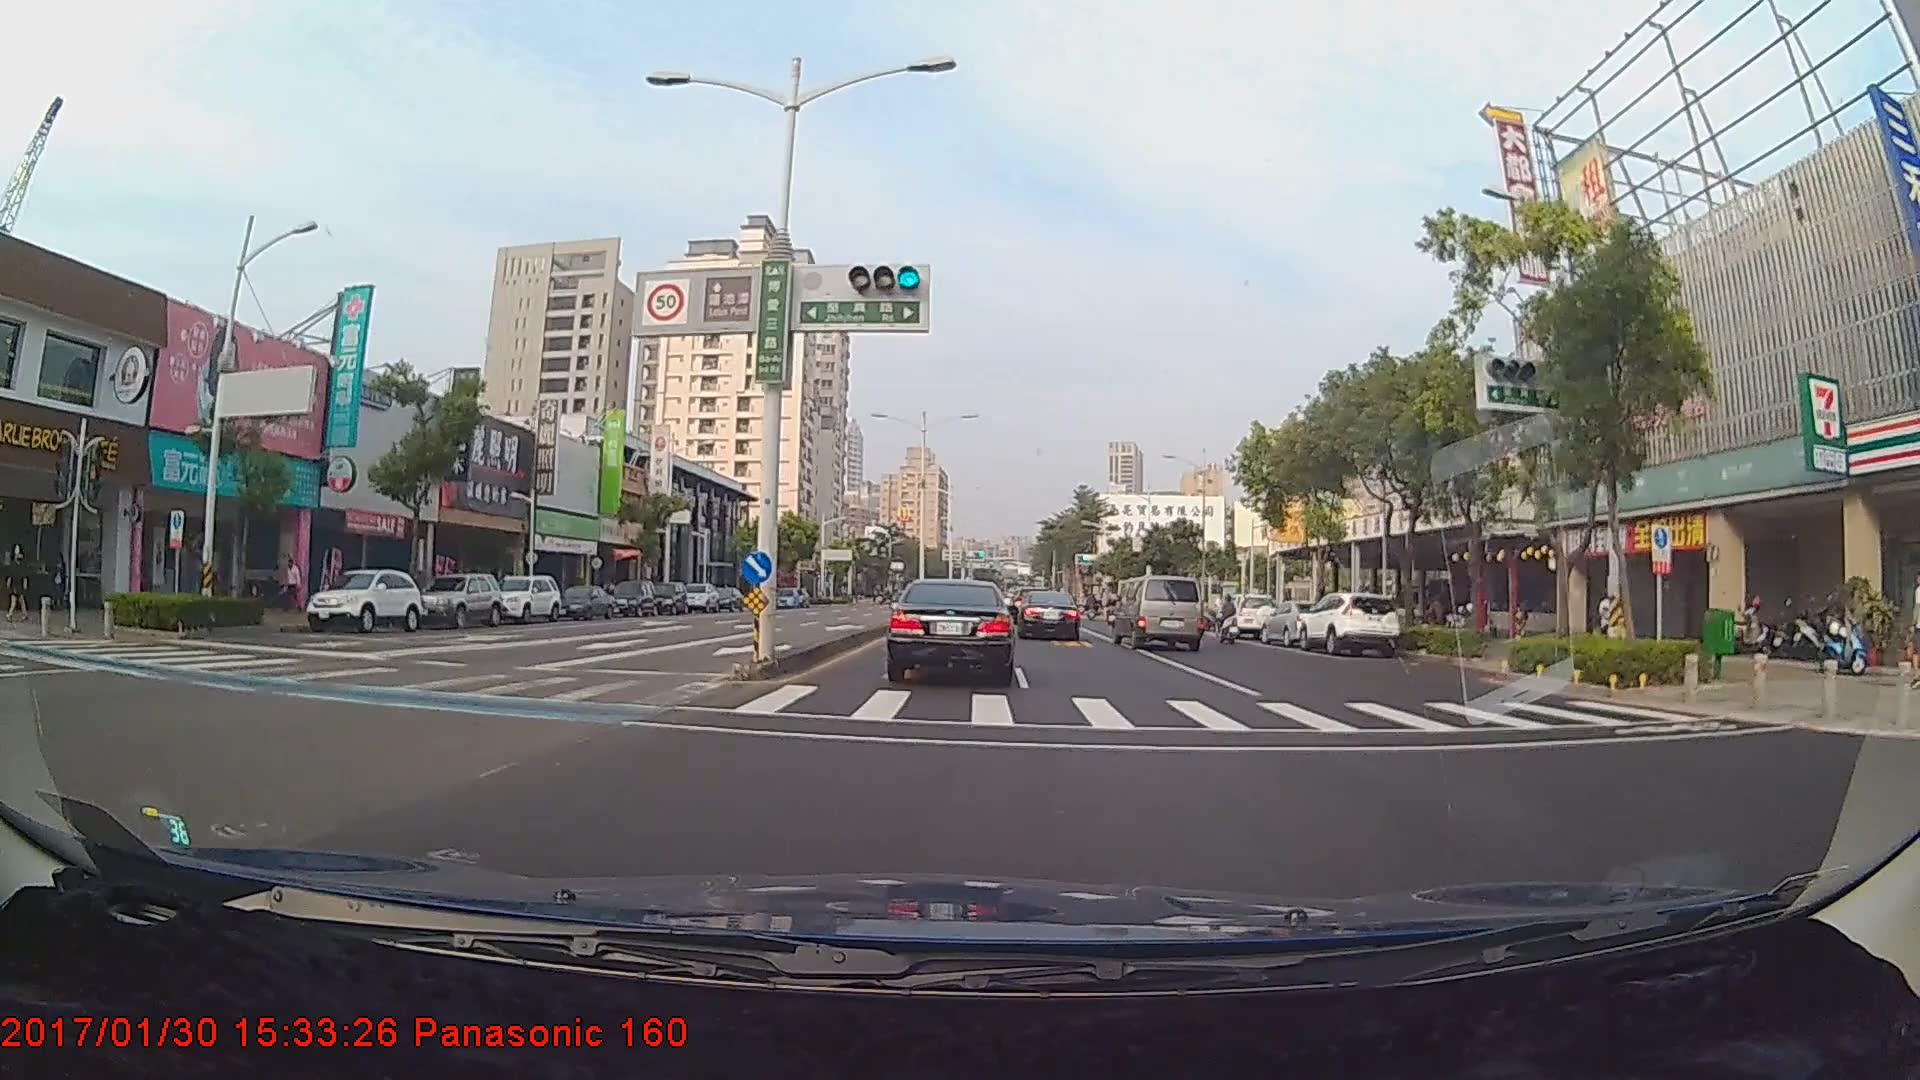pedestrian: (282, 557, 302, 615)
rider: (1211, 594, 1247, 645)
vehicle: (888, 577, 1010, 682), (300, 567, 422, 632), (1294, 588, 1403, 654), (1116, 575, 1202, 650), (405, 570, 501, 627), (487, 574, 566, 626), (1013, 590, 1081, 641), (1260, 598, 1334, 645), (1215, 592, 1280, 637), (551, 583, 615, 621), (607, 581, 657, 620), (646, 580, 687, 616), (676, 582, 720, 613)
